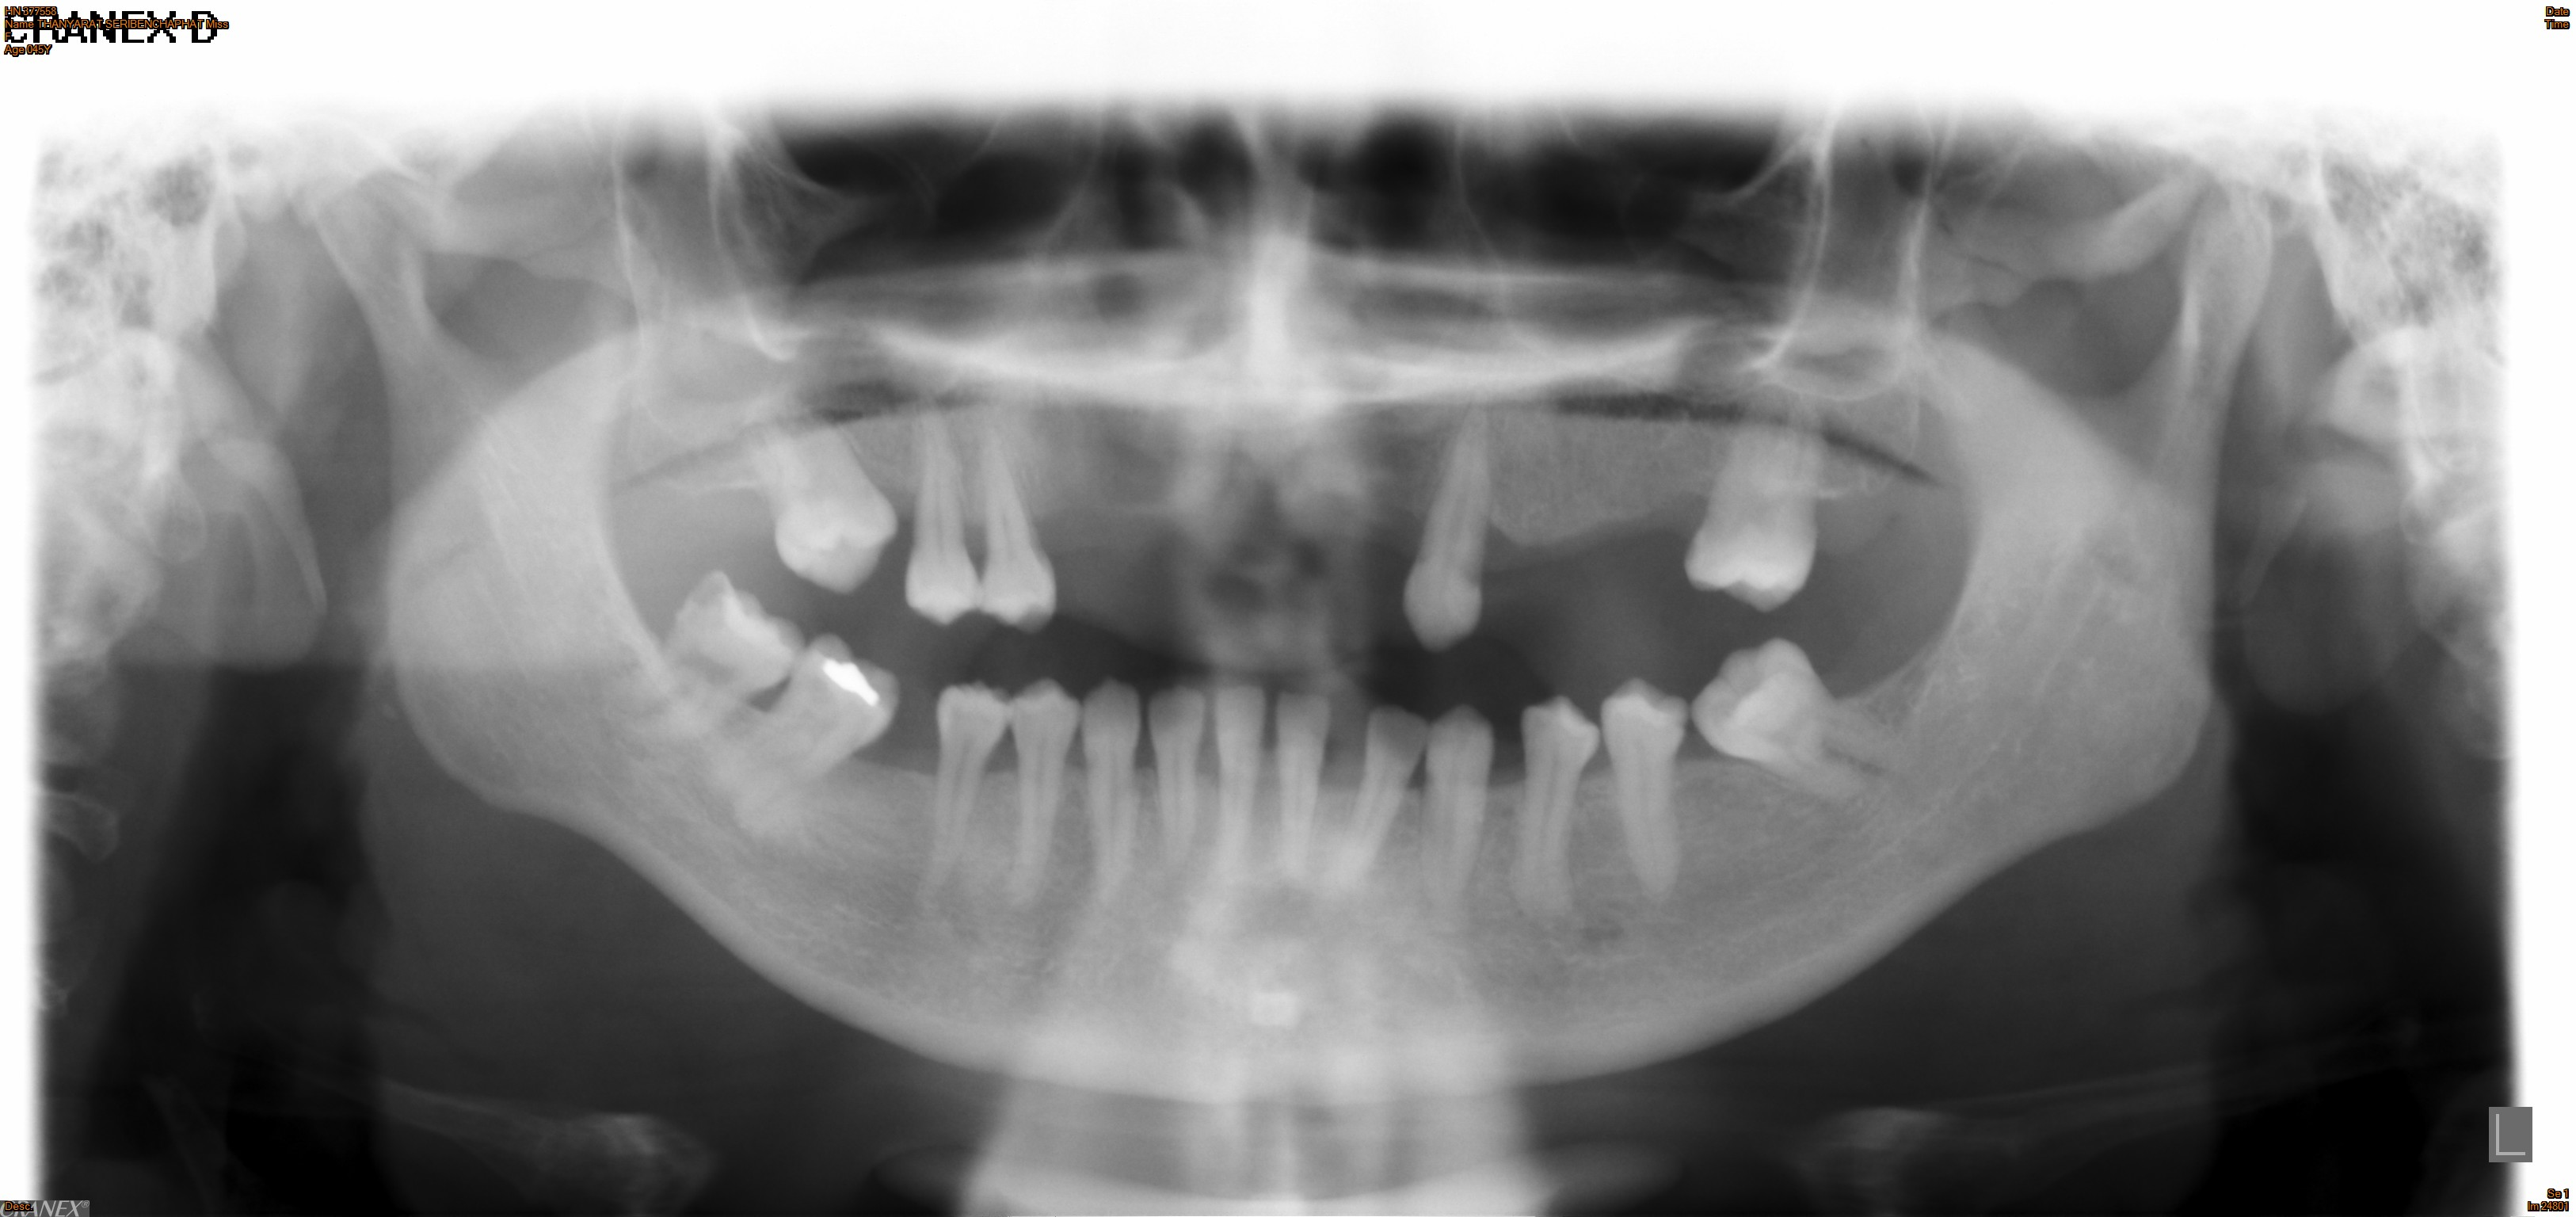periodontitis: (716, 627, 923, 833)
